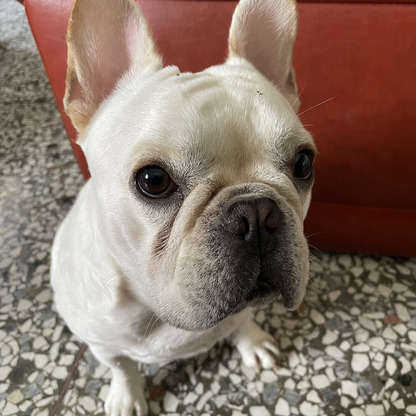bulldog: (49, 4, 326, 416)
